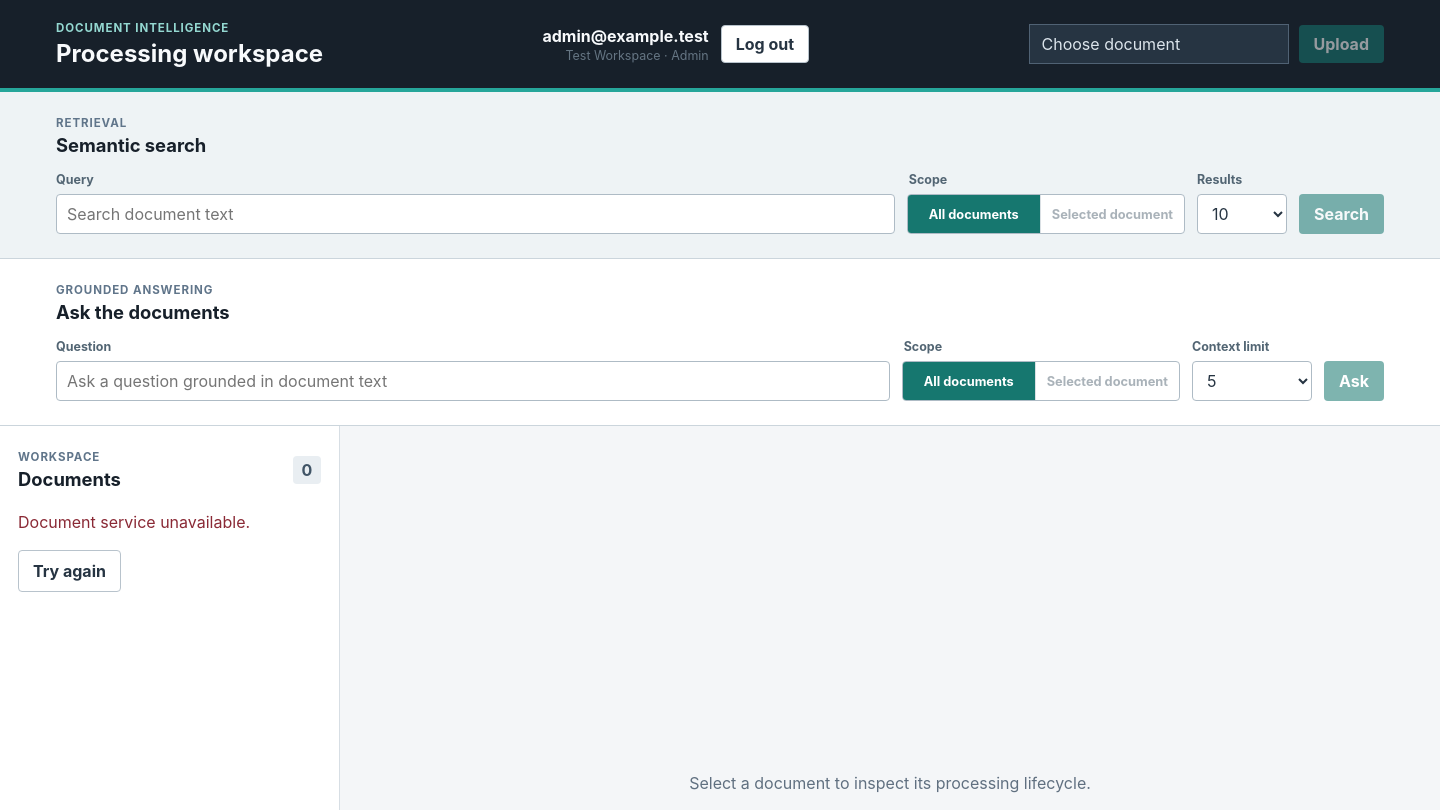
Test case: document workspace › surfaces API errors and supports retrying the library request
Expected: the message shows "Document service unavailable.", x1=18 y1=512 x2=250 y2=532
Click the button "Try again": (70, 571) x1=18 y1=550 x2=121 y2=592
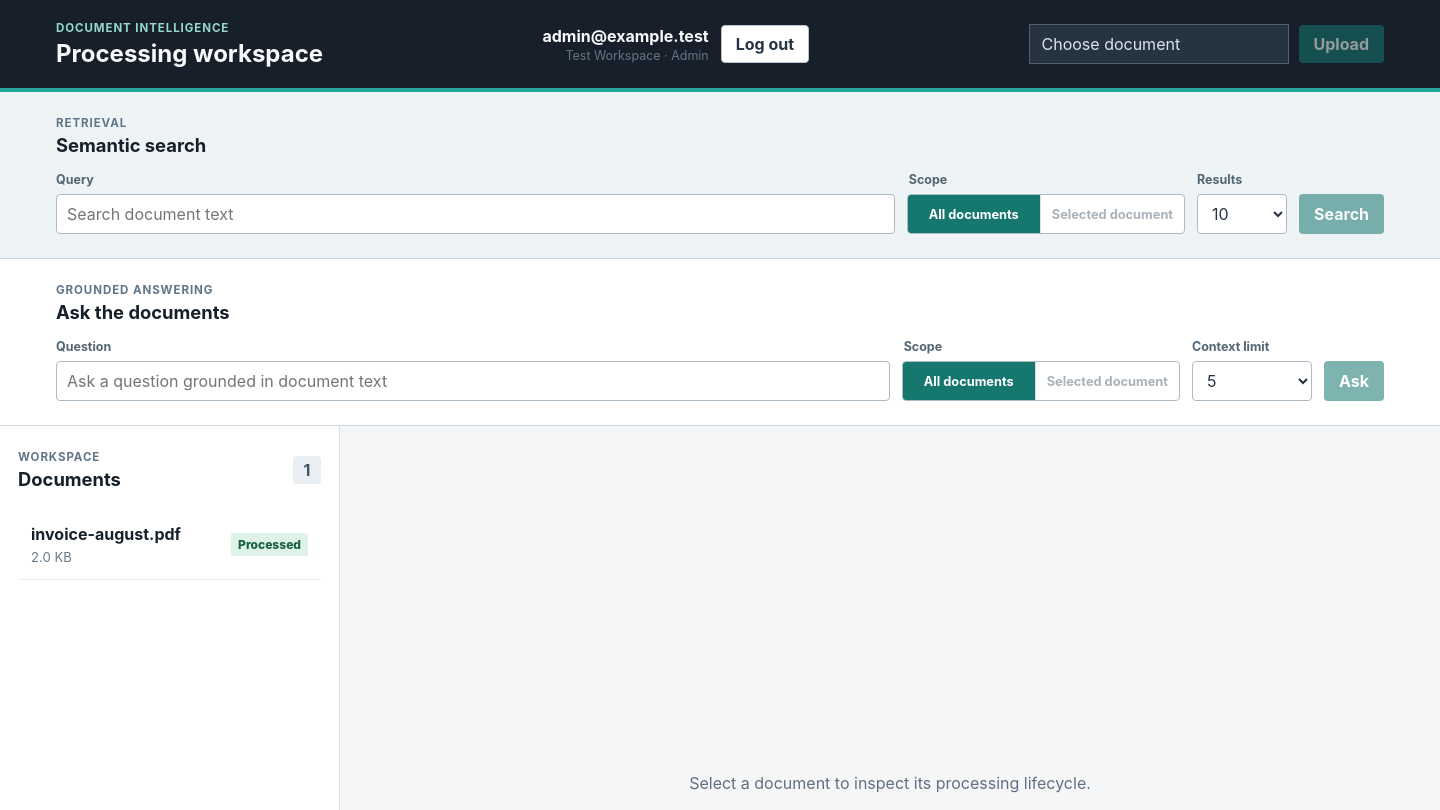
Expected: the text "invoice-august.pdf" is shown, x1=31 y1=524 x2=181 y2=544
